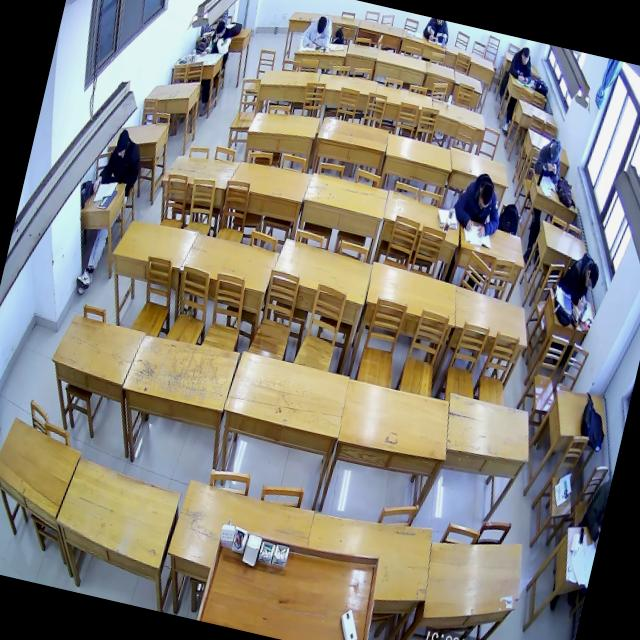bow: (298, 9, 337, 54)
down: (473, 180, 495, 214), (581, 262, 602, 294), (112, 127, 132, 160), (546, 136, 564, 164), (313, 14, 329, 36), (212, 18, 227, 41), (518, 45, 532, 67)
sit: (448, 166, 510, 242), (91, 122, 148, 200), (552, 246, 604, 314), (532, 134, 568, 184), (199, 16, 236, 63), (506, 44, 538, 86)
